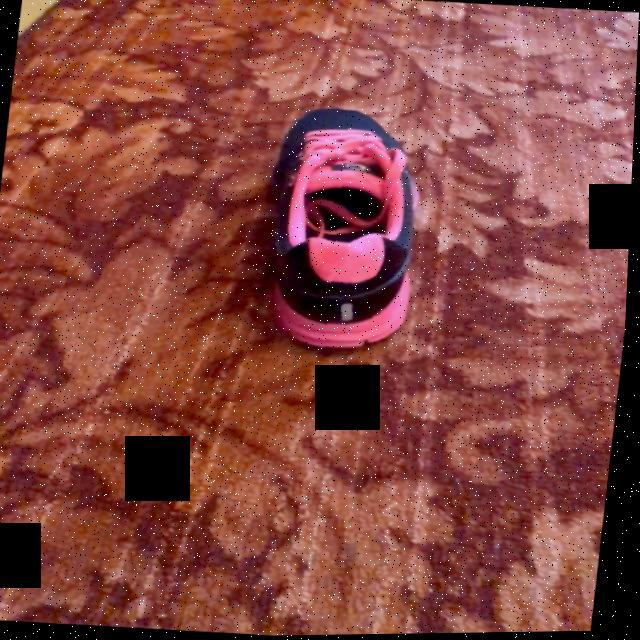shoe: (273, 110, 420, 354)
